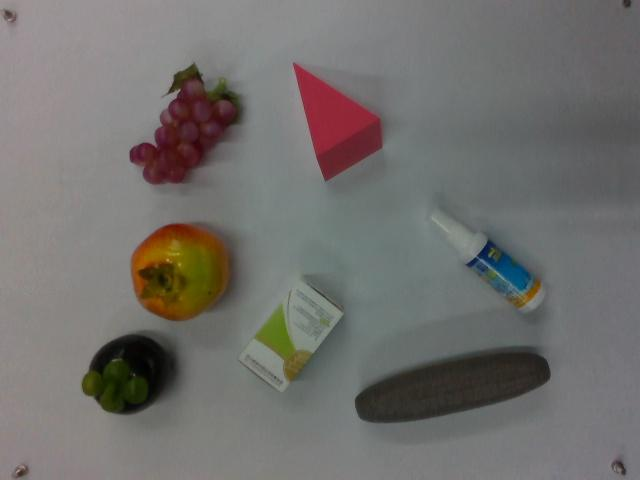carton: (236, 275, 345, 396)
detergent: (428, 207, 552, 317)
glassescase: (355, 344, 554, 429)
grape: (126, 64, 248, 189)
mangosteen: (79, 332, 179, 418)
pomegranate: (128, 222, 231, 325)
pyramid: (290, 60, 384, 186)
